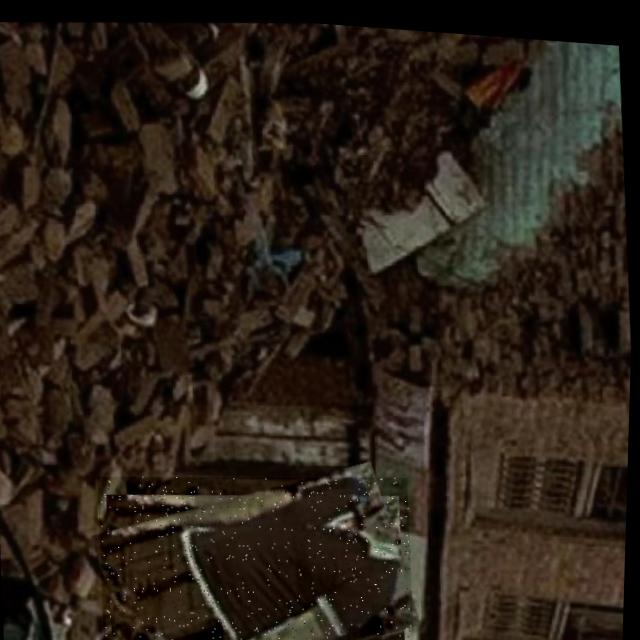Person in Rubble: (95, 452, 422, 640)
